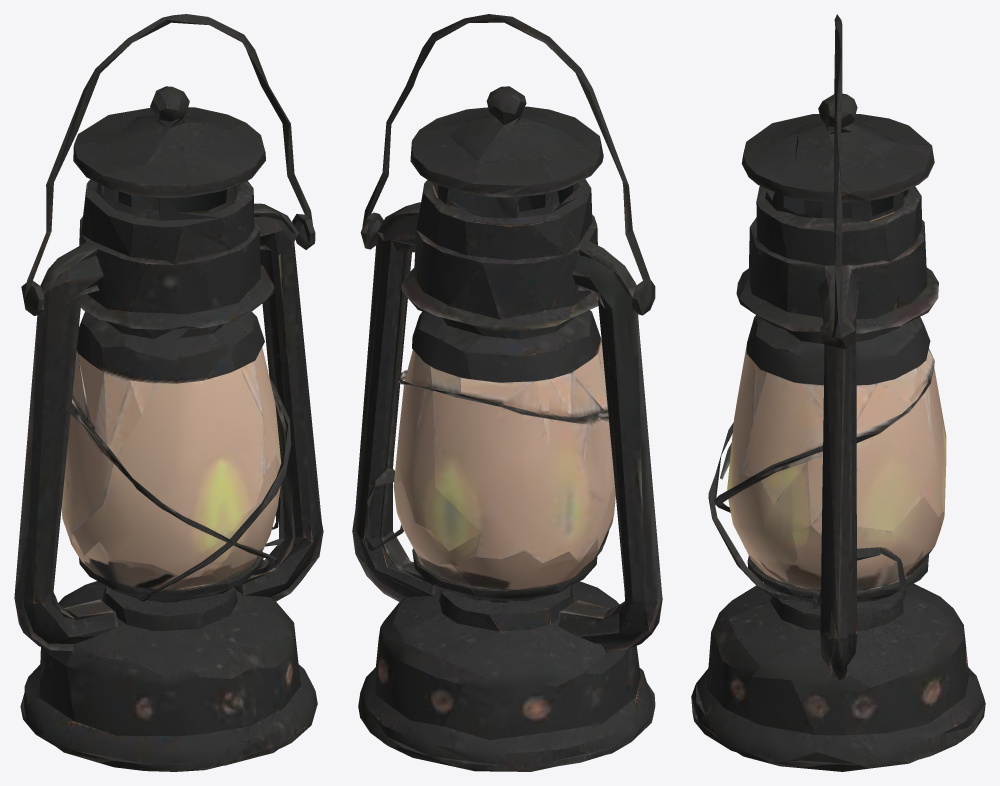
The model's file is lantern.glb.
3 renders of one model, left to right at view 1: azimuth 30°, elevation 25°; view 2: azimuth 150°, elevation 25°; view 3: azimuth 270°, elevation 25°, orthographic.
Bounding box in the file's own units: 0.8398 × 1.81 × 0.7022.
1 material, 1 textured.
